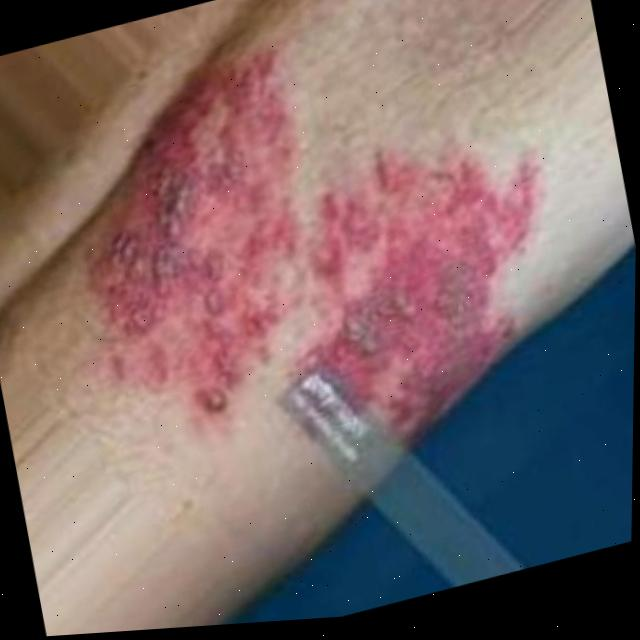Shingles: (45, 11, 346, 443), (271, 95, 600, 456)
